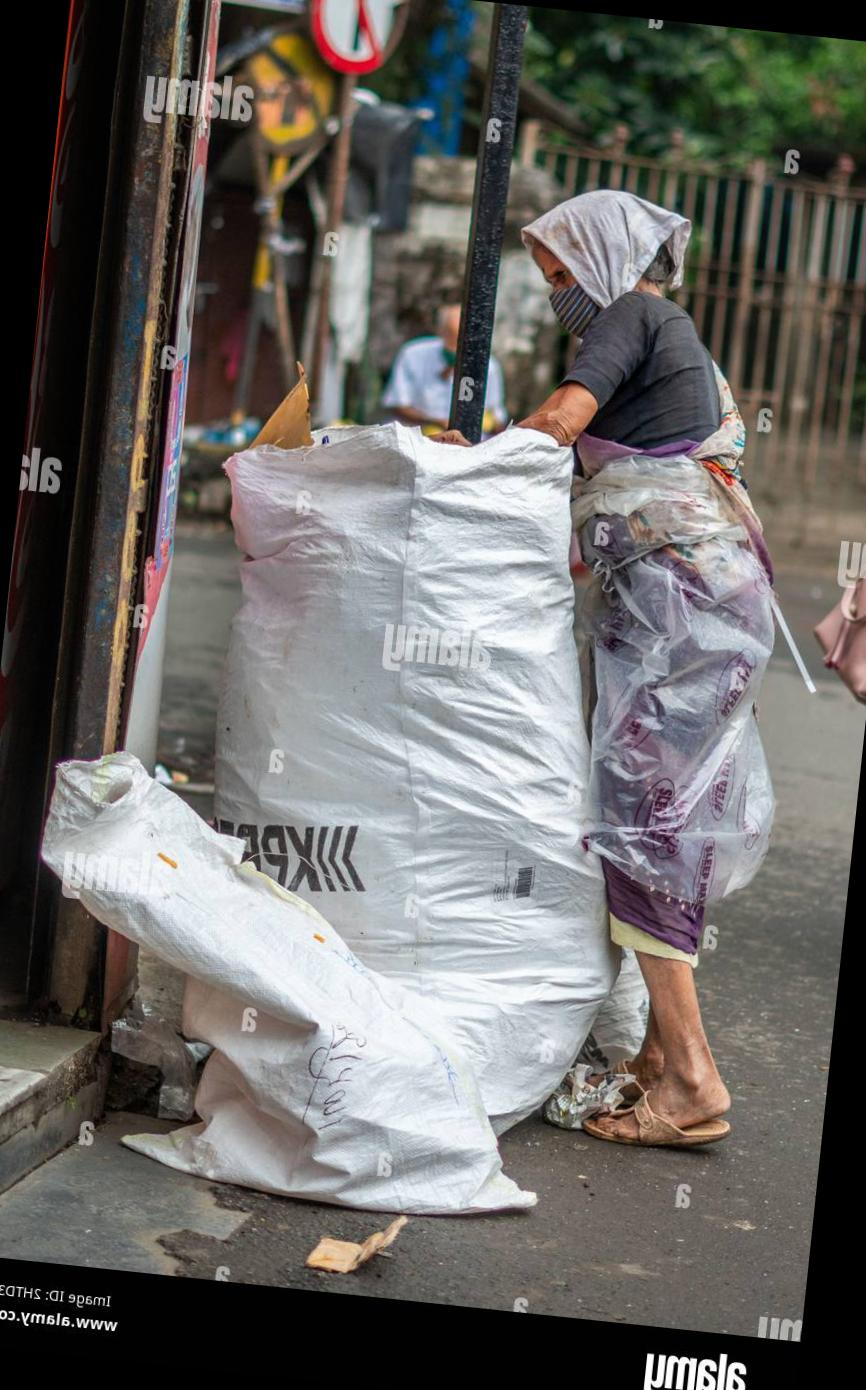trash: (212, 423, 617, 1126), (43, 753, 537, 1214)
